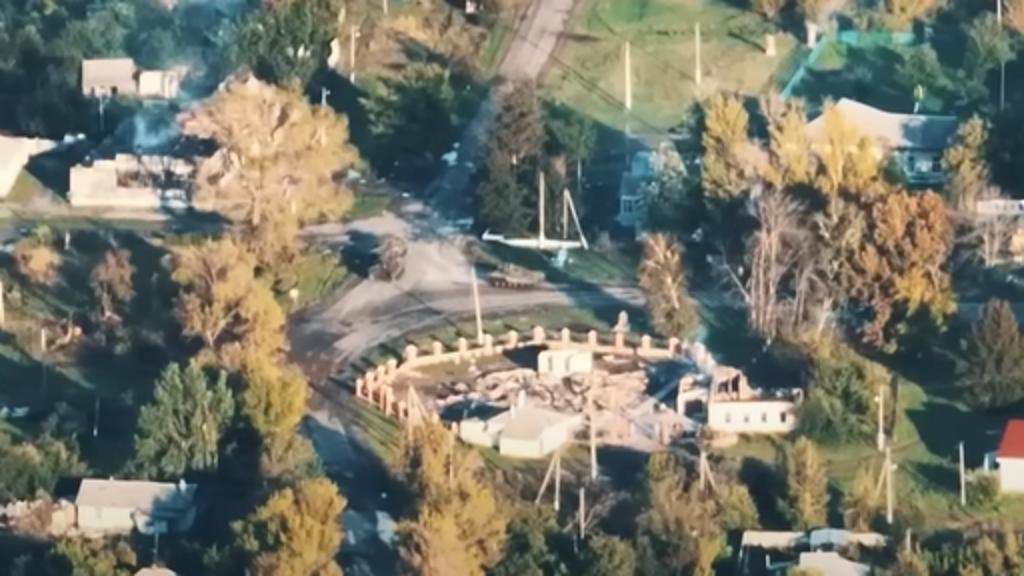APC-IFV: (482, 252, 546, 290)
TANK: (358, 238, 416, 280)
